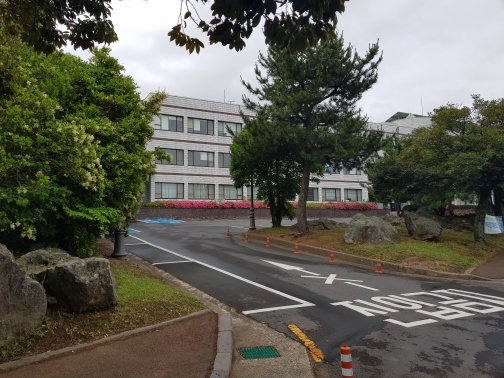Foreign Language Institute: (137, 87, 398, 218)
